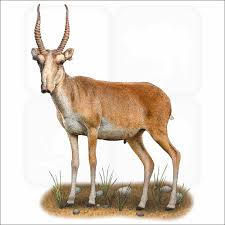saiga: (29, 2, 184, 215)
